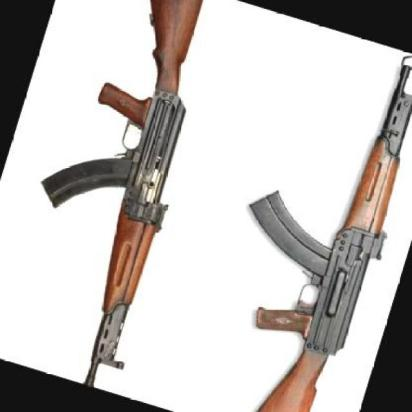Gun: (0, 0, 264, 402), (194, 24, 412, 412)
